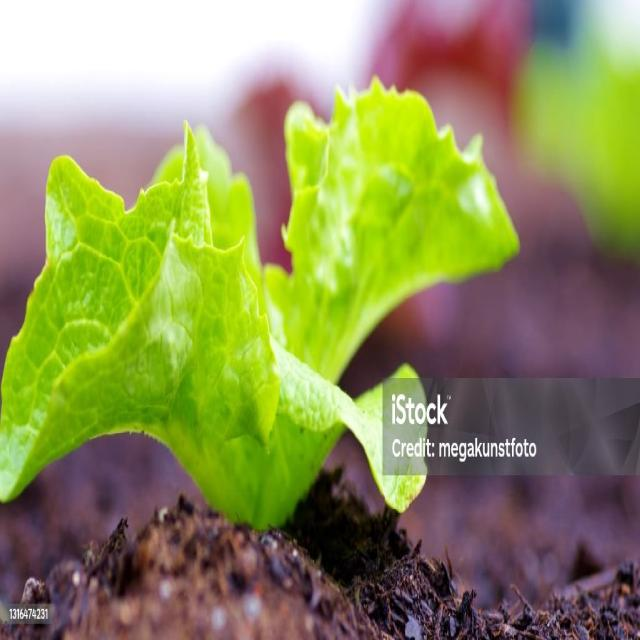Lettuce-Not-Ready-to-Harvest: (0, 76, 522, 506)
